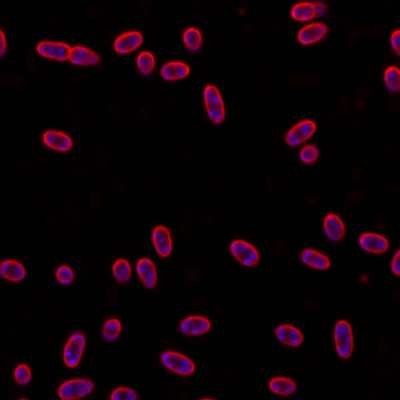MP265: (158, 348, 196, 376), (202, 84, 226, 125), (285, 118, 317, 147), (333, 318, 355, 360), (56, 376, 96, 399), (230, 239, 260, 267), (112, 30, 143, 55), (299, 246, 331, 270), (136, 256, 158, 290), (266, 374, 299, 396), (275, 323, 305, 347), (359, 231, 389, 254), (158, 60, 192, 80), (0, 258, 26, 284), (44, 128, 71, 152), (152, 225, 172, 256), (298, 142, 320, 165)
Oblique: (37, 39, 101, 69), (62, 331, 87, 368), (289, 0, 331, 21), (297, 22, 330, 46), (322, 212, 345, 244), (177, 314, 210, 335), (182, 26, 204, 54), (102, 317, 123, 343), (137, 50, 155, 79), (113, 258, 133, 284), (15, 363, 33, 386), (54, 265, 75, 284)
Vesicle: (359, 272, 371, 284)
